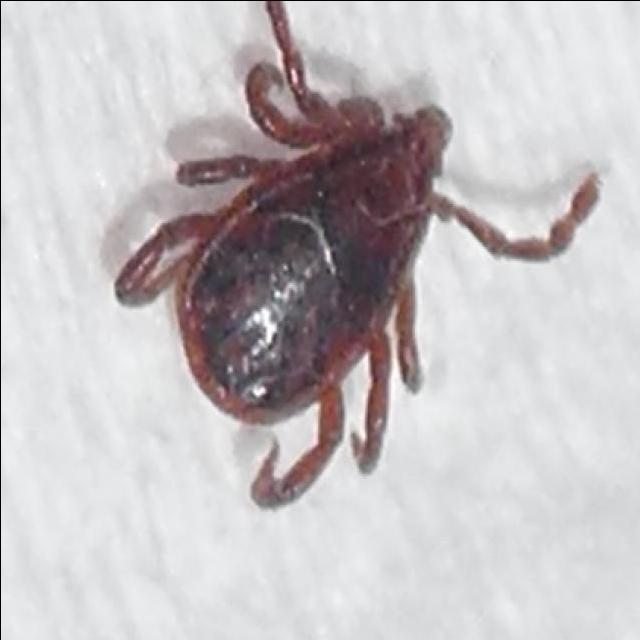Rhipicephalus Sanguineus-M: (112, 0, 602, 511)
